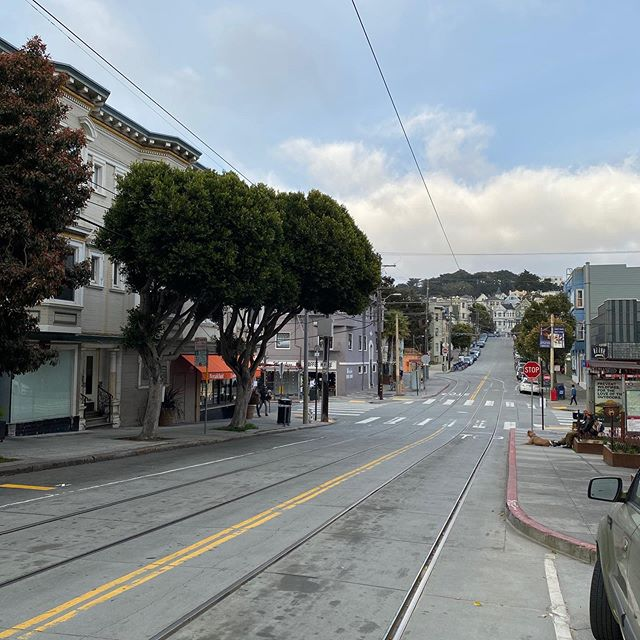building: (4, 132, 184, 467), (559, 274, 640, 422), (294, 298, 397, 399)
crosswalk: (343, 411, 517, 437), (406, 390, 530, 415)
sidewalk: (503, 426, 640, 570)
sky: (123, 1, 623, 255)
street: (8, 406, 503, 634)
tree: (100, 164, 259, 445), (1, 45, 113, 438), (218, 179, 365, 443), (521, 305, 577, 364)
